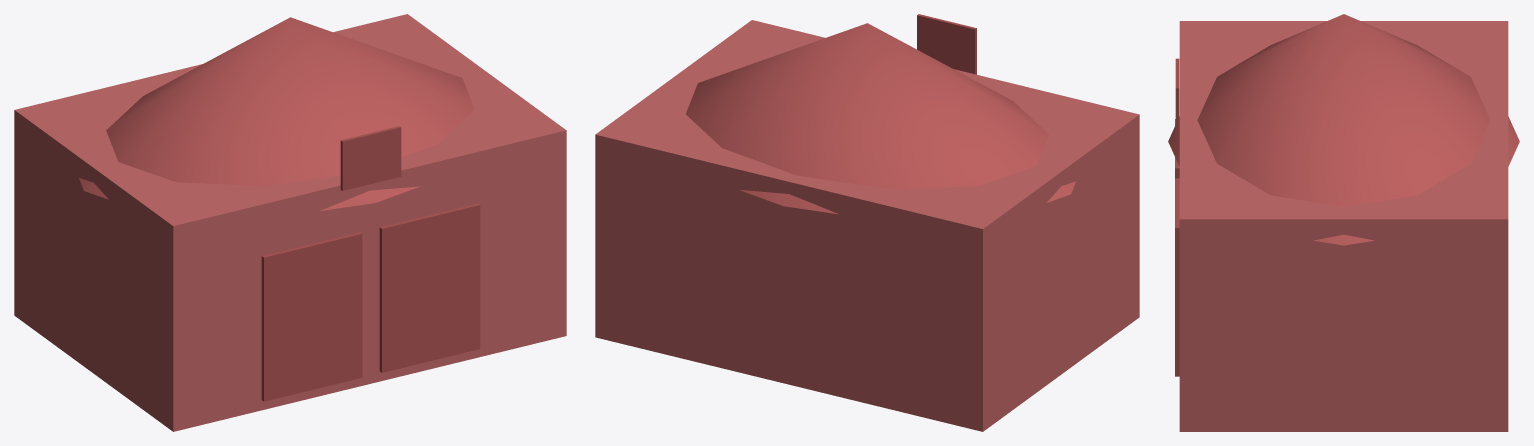
The model's file is env-ww-barn.glb.
3 renders of one model, left to right at view 1: azimuth 30°, elevation 25°; view 2: azimuth 150°, elevation 25°; view 3: azimuth 270°, elevation 25°, orthographic. The views are drawn at different scales.
Bounding box in the file's own units: 10.5 × 7.5 × 7.5.
